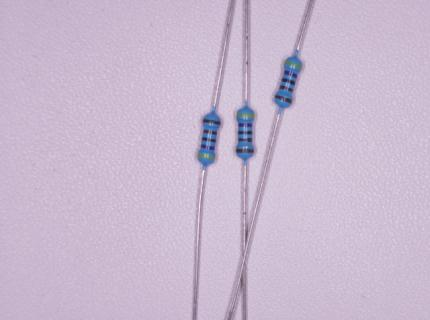Black band: (281, 77, 297, 86), (202, 137, 216, 143), (238, 130, 253, 135)
Brown band: (274, 94, 293, 104), (202, 118, 221, 126), (280, 85, 294, 93), (236, 149, 255, 154), (203, 129, 217, 135), (238, 138, 252, 142)
Violet band: (283, 70, 299, 79), (201, 144, 215, 151), (238, 123, 252, 127)
Yellow band: (284, 60, 303, 70), (197, 153, 215, 160), (237, 113, 255, 118)
